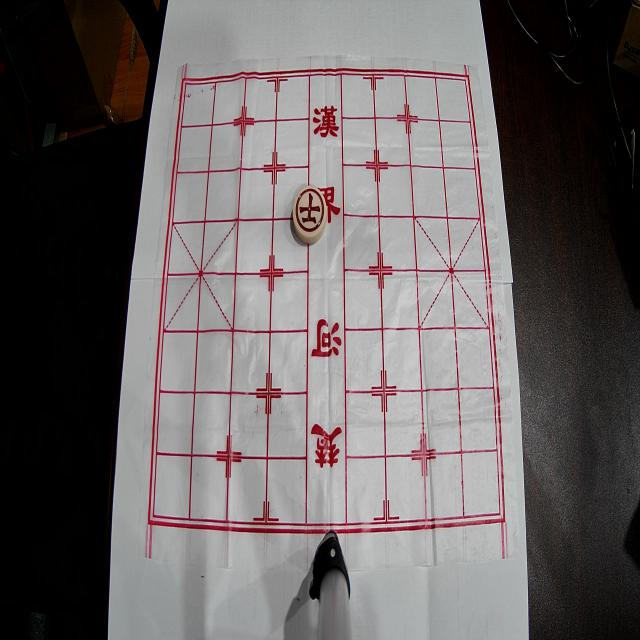red-guard: (293, 186, 327, 243)
